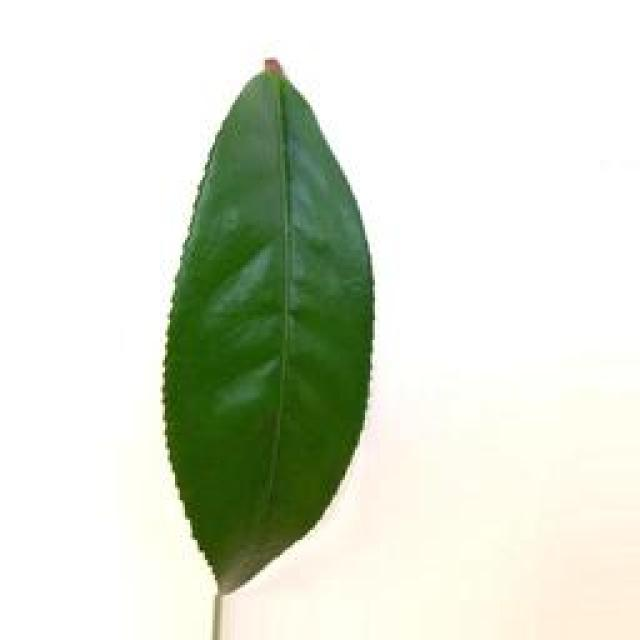Healthy: (130, 43, 394, 640)
